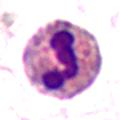monocyte: (21, 18, 103, 97)
